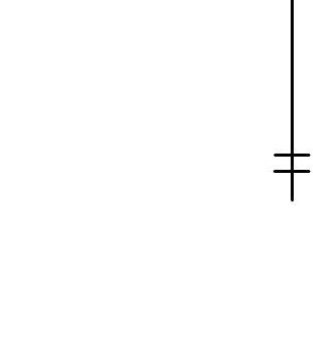115_buffer: (273, 154, 311, 173)
